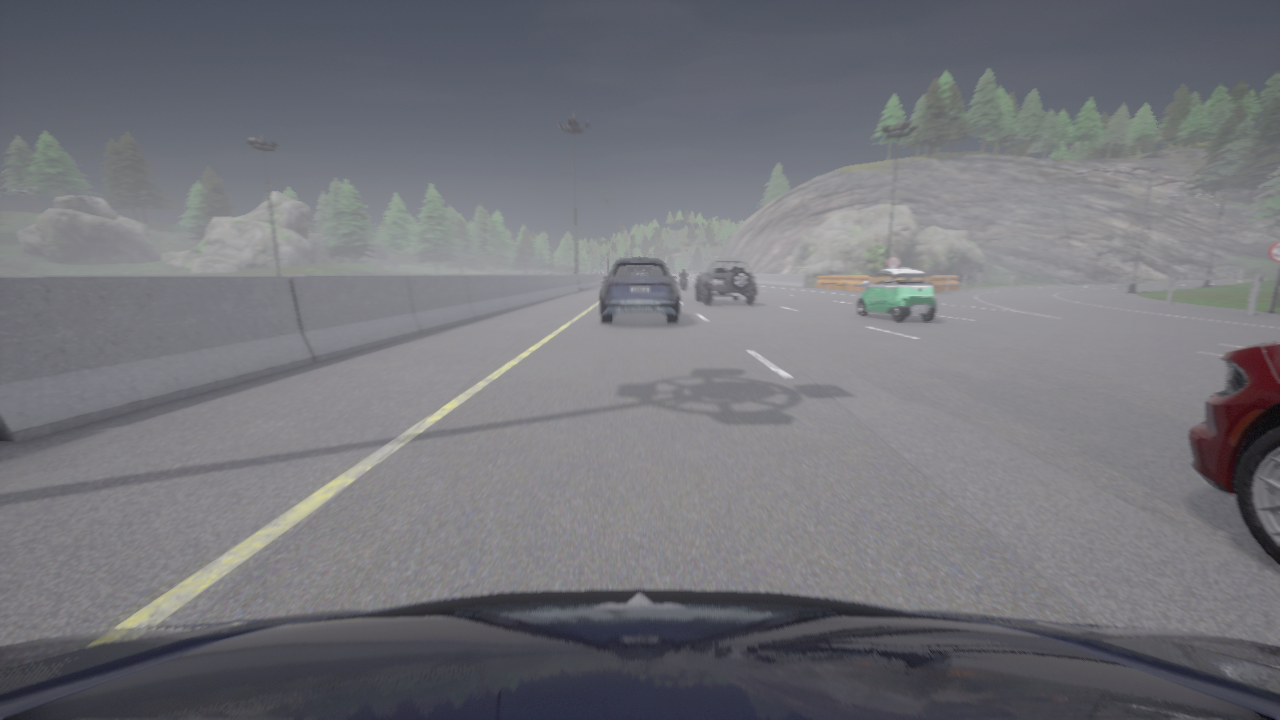cyclist: (0, 588, 1279, 719), (1189, 340, 1279, 564), (600, 257, 679, 323), (858, 268, 936, 321), (695, 258, 757, 304), (681, 278, 686, 288)
